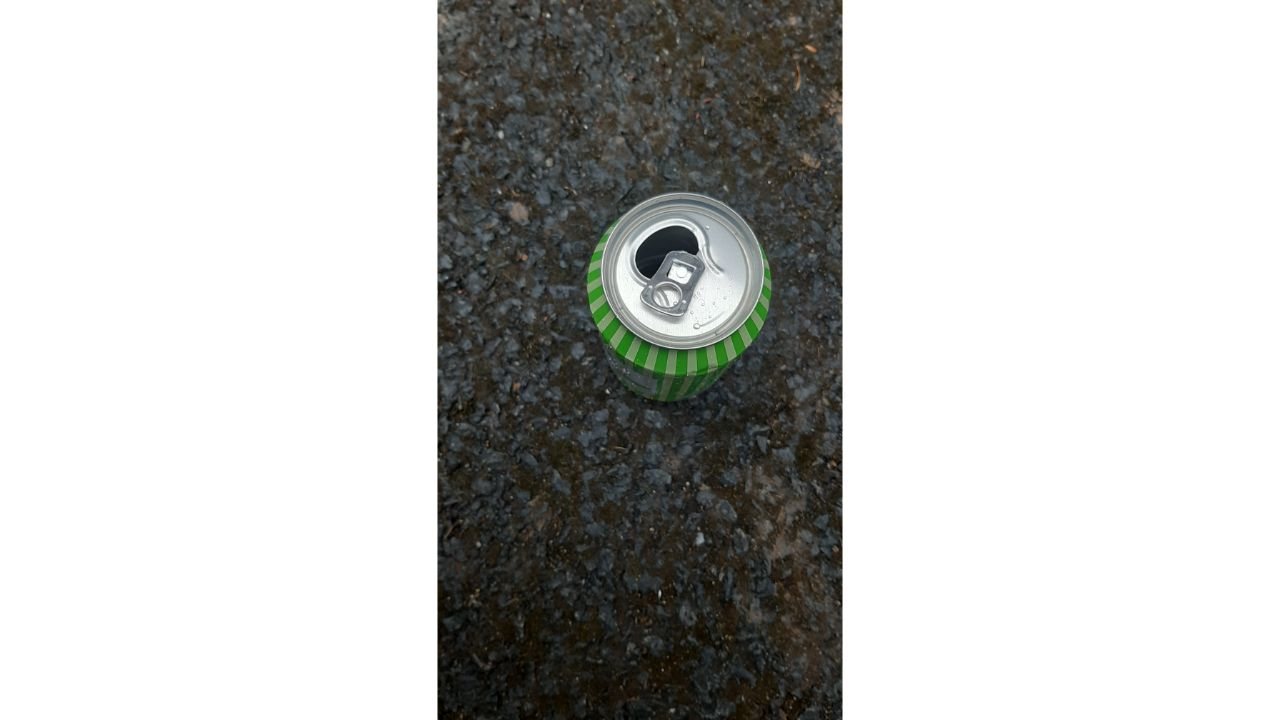Can: (573, 176, 799, 425)
